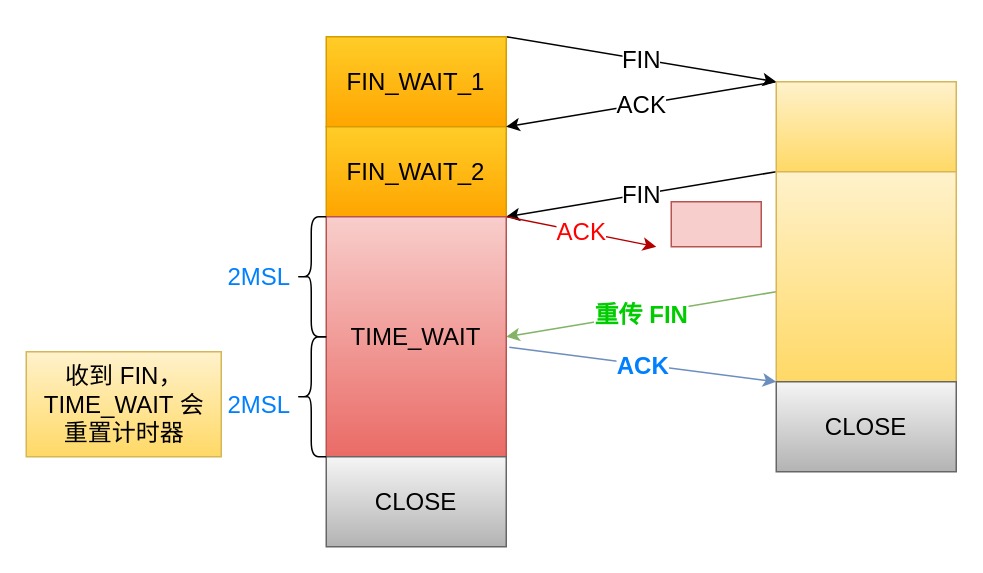
Image size: 983x573. Some labels were removed from this diagram. Each missing label, with the box of its shape:
CLOSE_WAIT: (775, 80, 956, 172)
LAST_ACK: (775, 170, 956, 382)
丢失: (670, 200, 761, 247)
